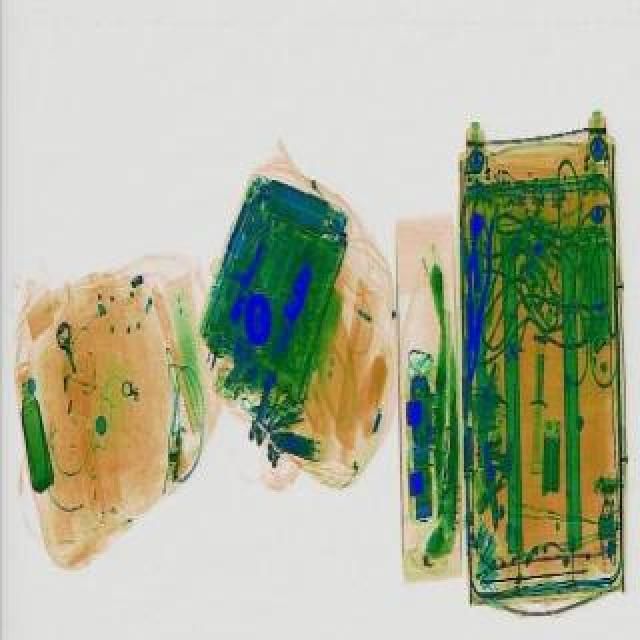wrench: (456, 214, 496, 384)
